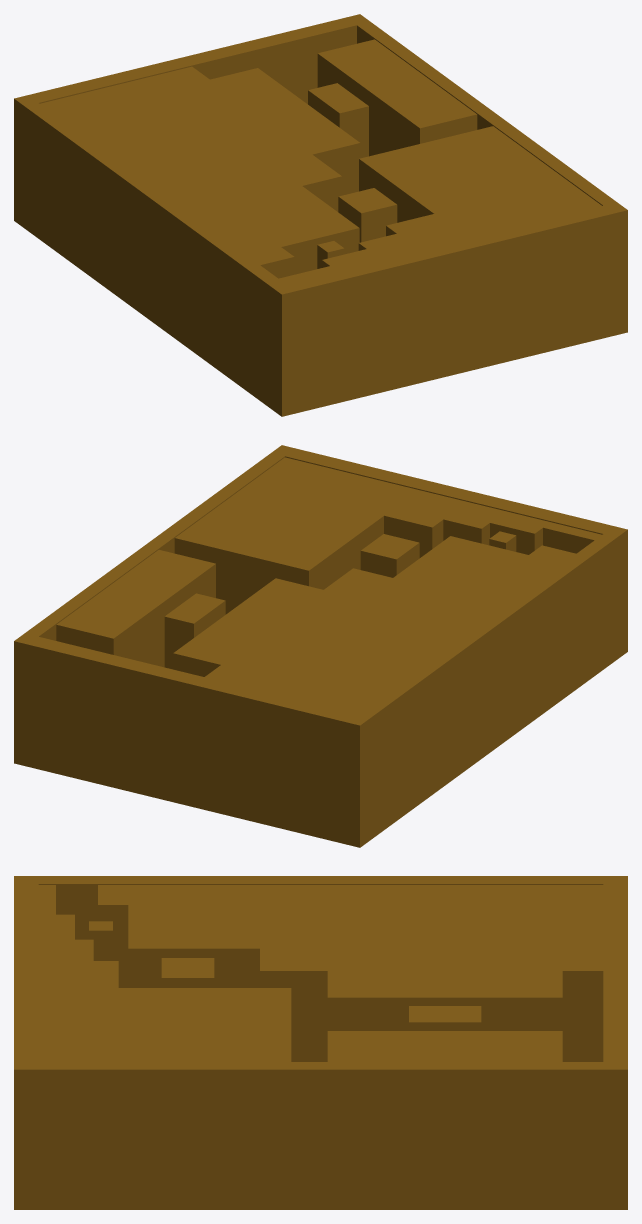
The model's file is Map3.obj.
3 views of the same model, one above another, from view 1: azimuth 30°, elevation 25°; view 2: azimuth 150°, elevation 25°; view 3: azimuth 270°, elevation 25° (orthographic). The views are drawn at different scales.
Parts seen in each view (by area): view 1: MAP.EDGE, OBSTACLE; view 2: MAP.EDGE, OBSTACLE; view 3: MAP.EDGE, OBSTACLE.
Part boxes in pixels (<box>): MAP.EDGE: <box>14,14,627,416</box>; OBSTACLE: <box>40,39,601,283</box>; MAP.EDGE: <box>14,445,627,847</box>; OBSTACLE: <box>56,457,601,714</box>; MAP.EDGE: <box>14,876,627,1209</box>; OBSTACLE: <box>38,885,603,1061</box>.
Bounding box in the file's own units: 5990 × 2023 × 8030.
